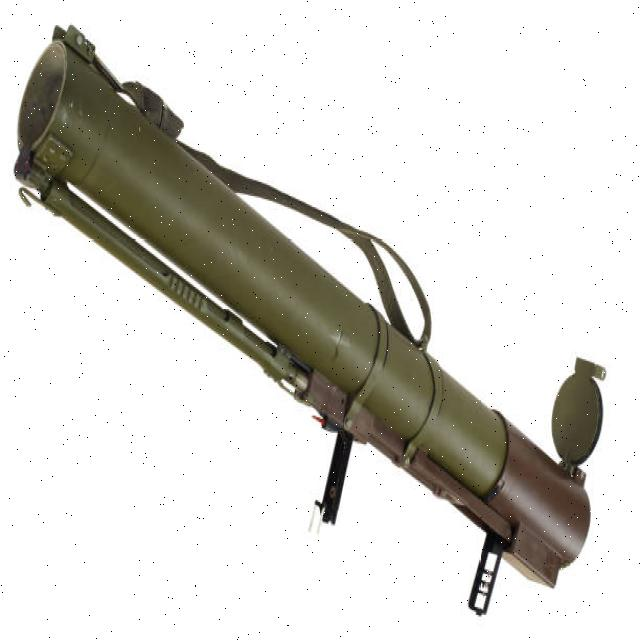bazooka: (4, 17, 616, 625)
